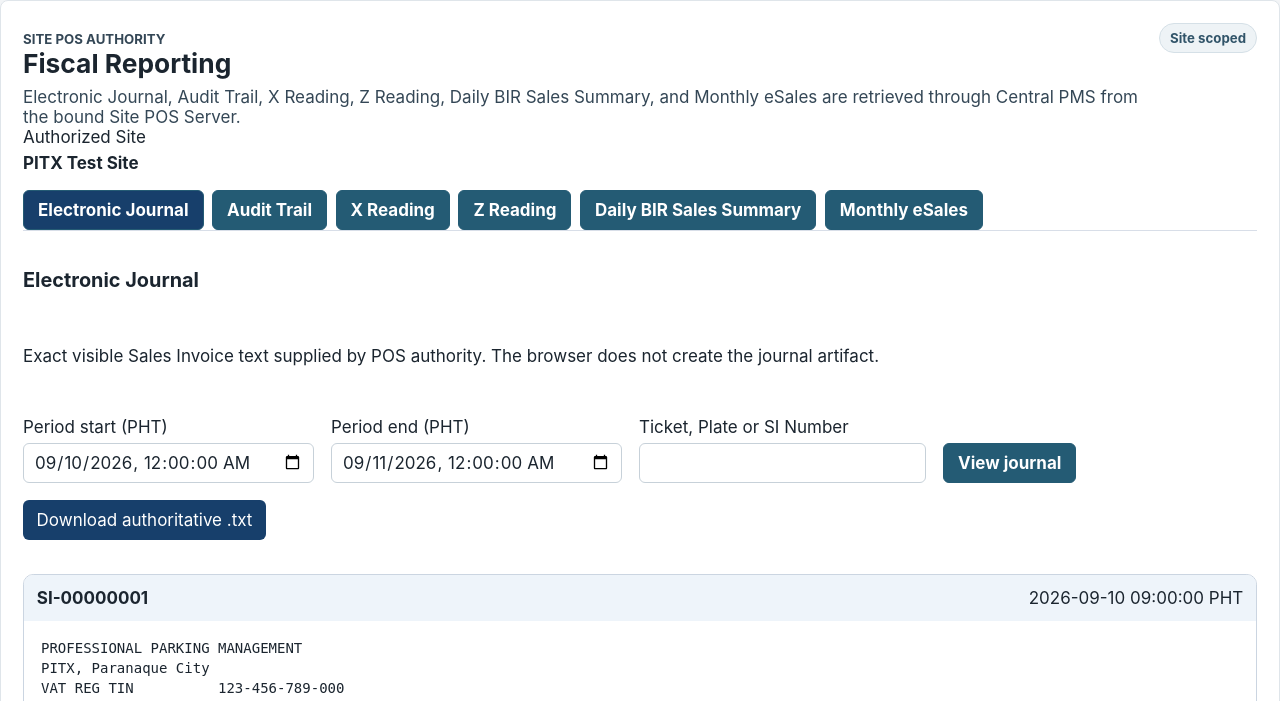
Test: Operator Console fiscal reporting › reports BIR Summary pending without reporting the committed Z close as failed
This screenshot has width=1280, height=701.
Click the tab "Z Reading" at (515, 210), box [458, 190, 572, 230]
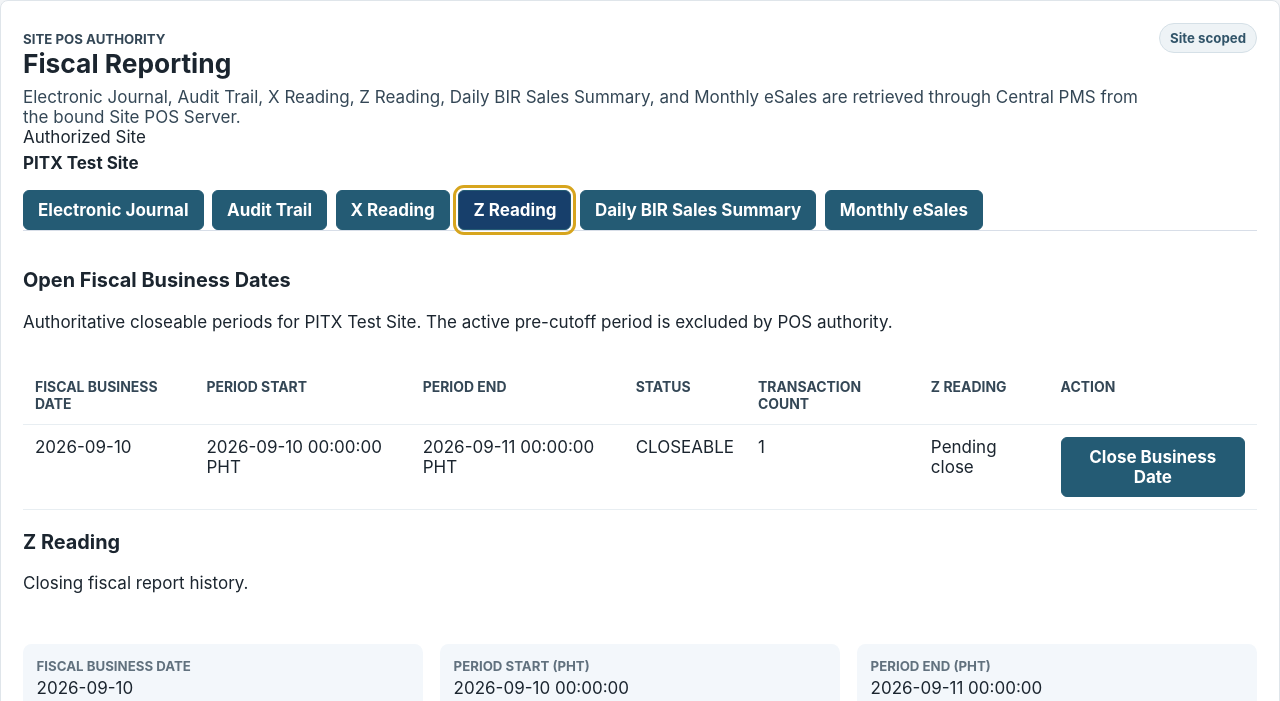
Click the button "Close Business Date" at (1153, 467), box [1061, 437, 1245, 497]
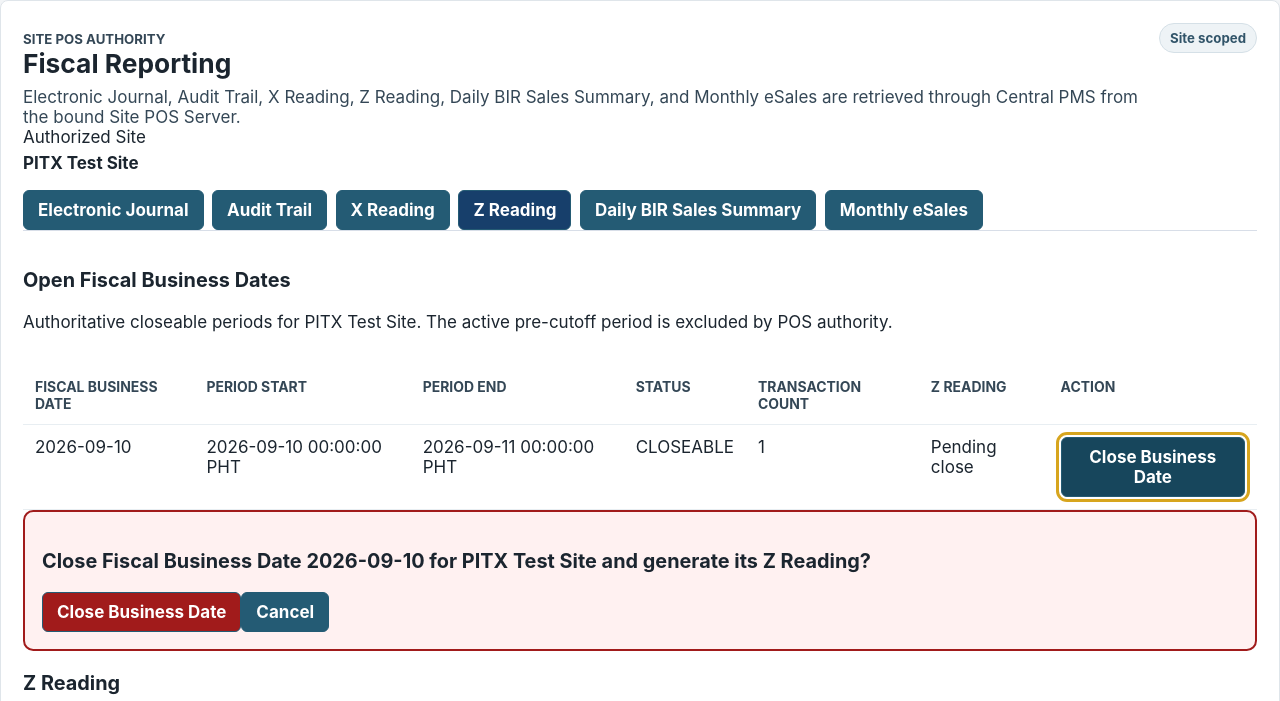
Click the button with class "dangerButton" at (142, 612), box [42, 592, 241, 632]
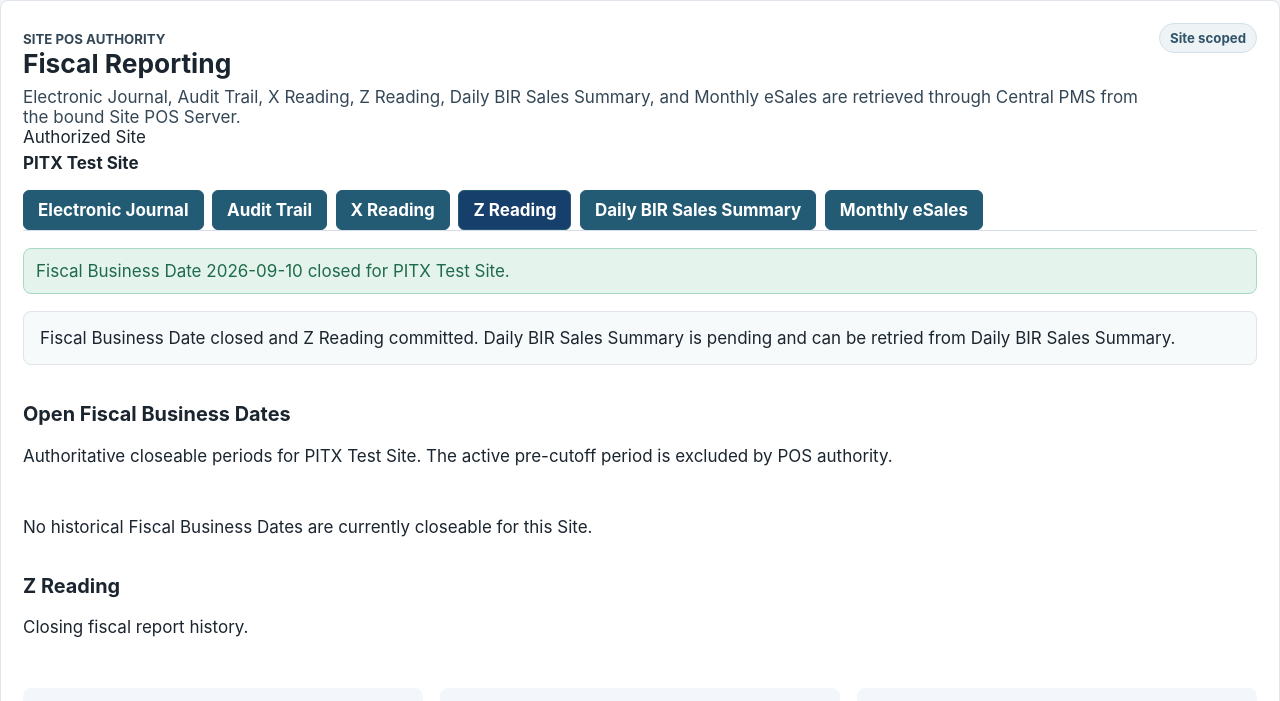
Result: the text "Fiscal Business Date 2026-09-10 closed for PITX Test Site." is shown at [23, 248, 1257, 294]
Result: the text "Fiscal Business Date closed and Z Reading committed. Daily BIR Sales Summary is pending and can be retried from Daily BI" is shown at [40, 328, 1176, 348]
